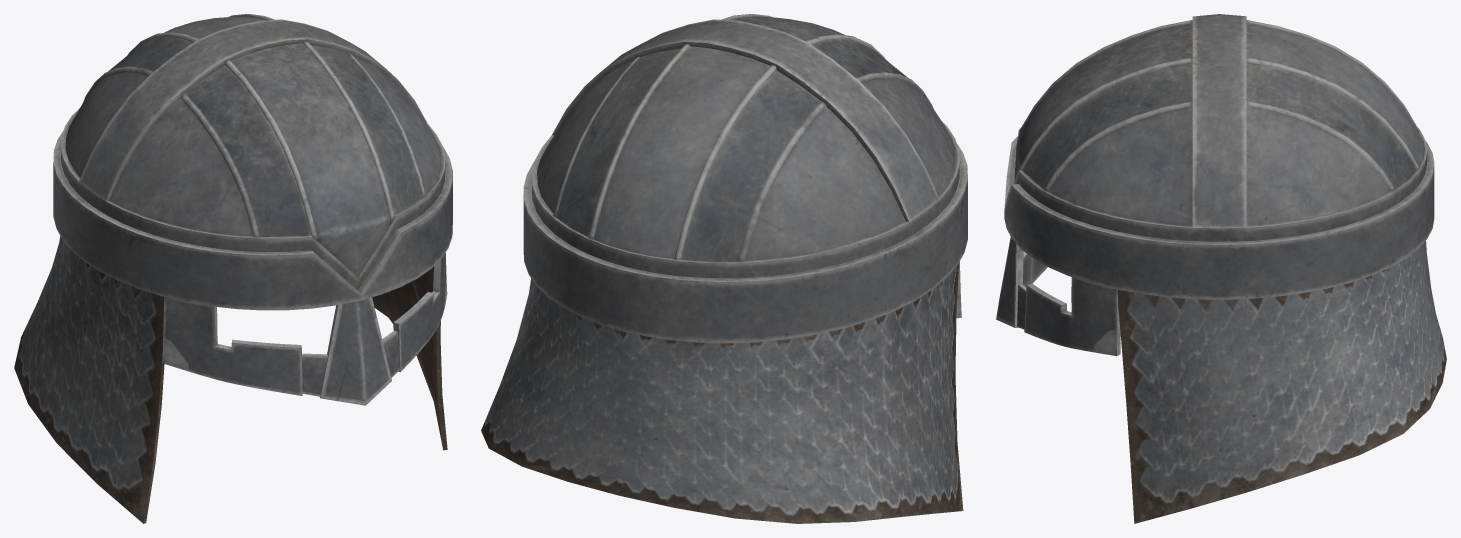
Rendered from sk_dwarf_erebor_helmet_plate_light_b.fbx.
3 renders of one model, left to right at view 1: azimuth 30°, elevation 25°; view 2: azimuth 150°, elevation 25°; view 3: azimuth 270°, elevation 25°, orthographic. The views are drawn at different scales.
Parts seen in each view (by area): view 1: sk_dwarf_erebor_helmet_plate_light_b.1, sk_dwarf_erebor_helmet_plate_light_b.0; view 2: sk_dwarf_erebor_helmet_plate_light_b.1, sk_dwarf_erebor_helmet_plate_light_b.0; view 3: sk_dwarf_erebor_helmet_plate_light_b.1, sk_dwarf_erebor_helmet_plate_light_b.0.
Boxes of the visible parts, box(x1,y1,x2,y2) form: sk_dwarf_erebor_helmet_plate_light_b.1: box(53, 14, 452, 405); sk_dwarf_erebor_helmet_plate_light_b.0: box(14, 236, 447, 523); sk_dwarf_erebor_helmet_plate_light_b.1: box(523, 14, 967, 343); sk_dwarf_erebor_helmet_plate_light_b.0: box(481, 262, 963, 523); sk_dwarf_erebor_helmet_plate_light_b.1: box(996, 14, 1434, 356); sk_dwarf_erebor_helmet_plate_light_b.0: box(1117, 241, 1446, 523).
Size of the model in its own units: 0.2777 by 0.3 by 0.3085.
